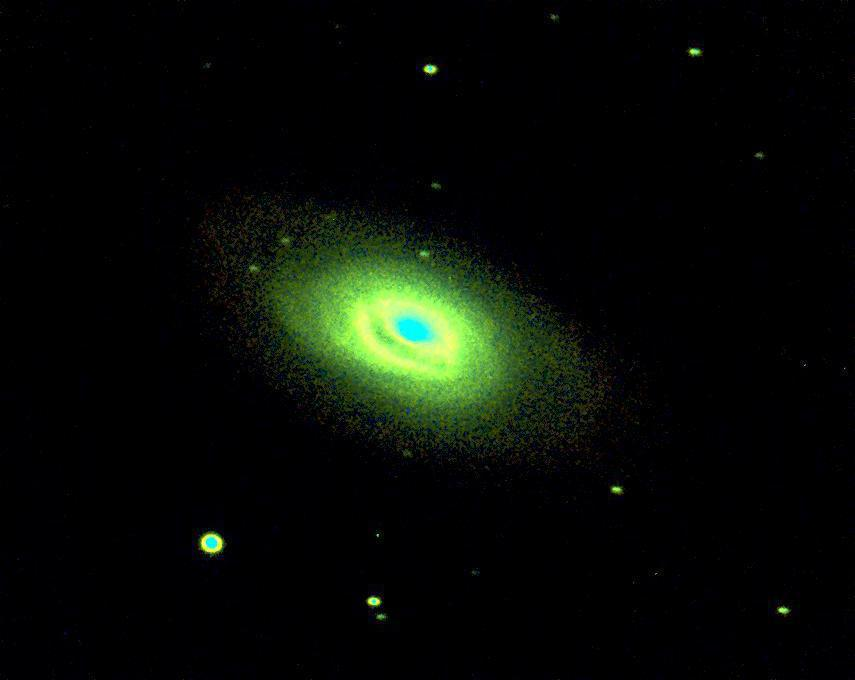star: (538, 2, 568, 32)
